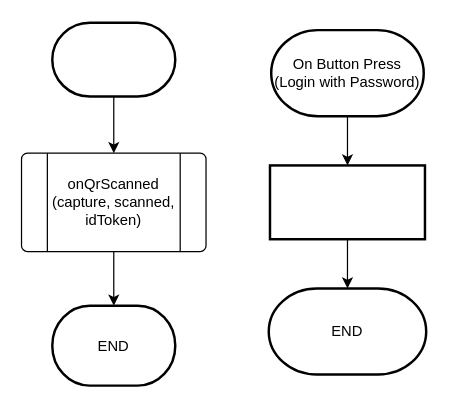
This 449x407 diagram has some shape labels left out. Here are the shapes that lost their labels. From the top down, the box of each, then its label:
(50, 21, 176, 97): OnDetect ( QrScanner)
(268, 164, 426, 240): Navigator pushReplacement: Password login page
